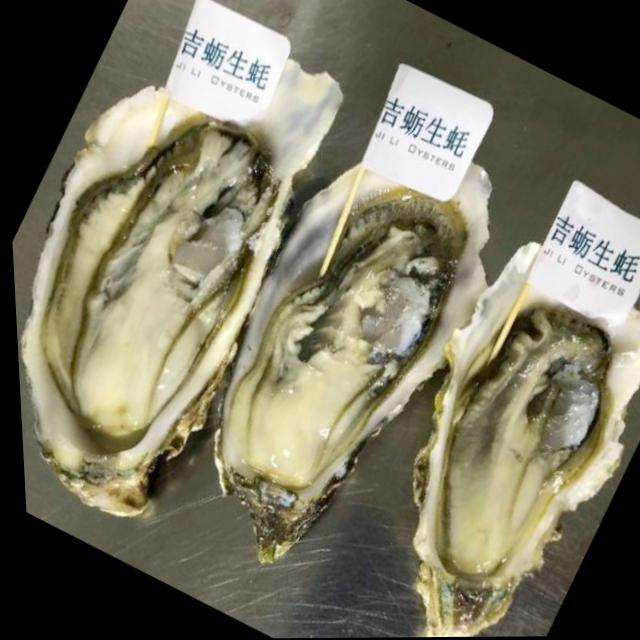Oyster-Open: (18, 63, 338, 518), (213, 165, 492, 565), (409, 243, 640, 637)
